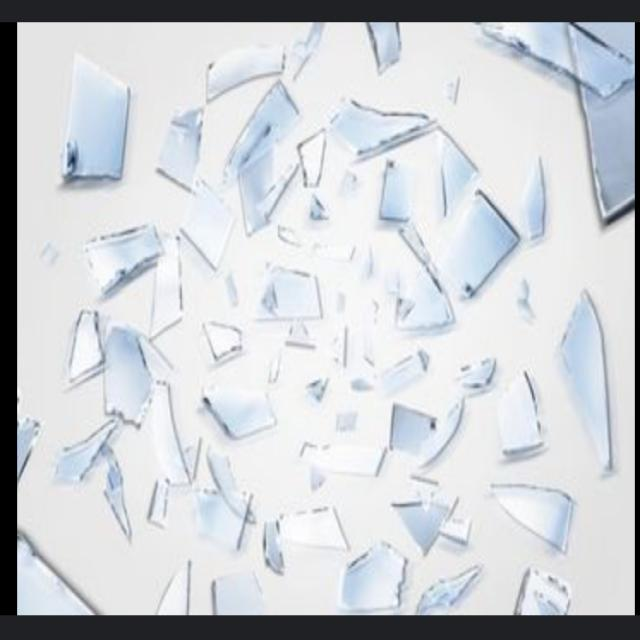PecahanKaca: (21, 22, 624, 614)
